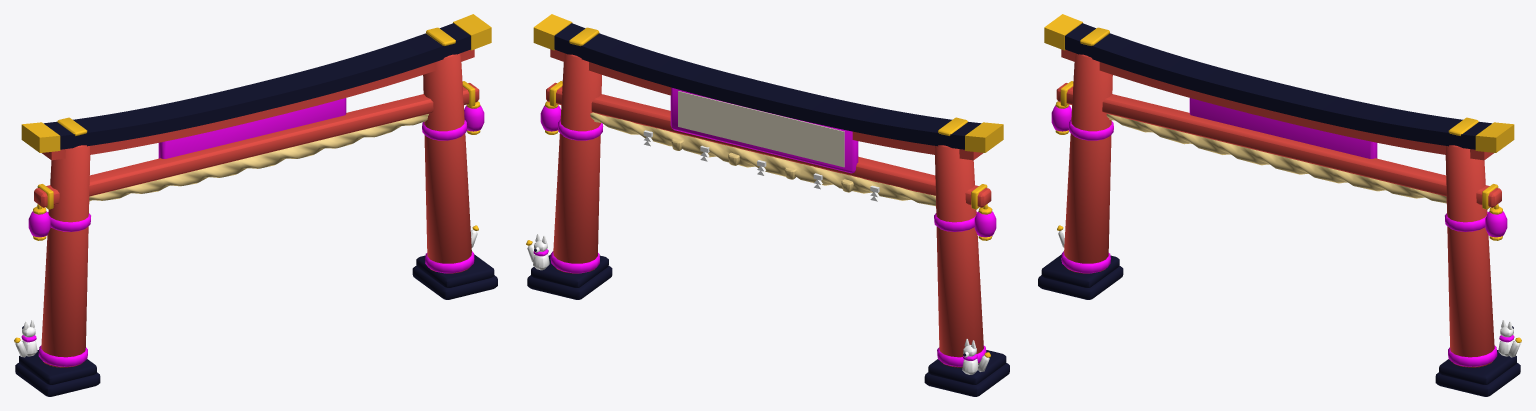
File: Lane_ZoneGate.glb
3 renders of one model, left to right at view 1: azimuth 30°, elevation 25°; view 2: azimuth 150°, elevation 25°; view 3: azimuth 330°, elevation 25°, orthographic.
Visible parts, largest first — view 1: Red_E0453C, Ink_0D0F2B, Accent_FF00FF, Rope_F4D58A, Gold_FFC21A, White_FFFFFF; view 2: Red_E0453C, Ink_0D0F2B, Face_FFF6E0, Rope_F4D58A, Accent_FF00FF, Gold_FFC21A, White_FFFFFF; view 3: Red_E0453C, Ink_0D0F2B, Accent_FF00FF, Rope_F4D58A, Gold_FFC21A, White_FFFFFF.
Part boxes in pixels (bbox=[...]): Red_E0453C: bbox=[34, 49, 479, 367]; Ink_0D0F2B: bbox=[15, 23, 497, 396]; Accent_FF00FF: bbox=[21, 98, 484, 366]; Rope_F4D58A: bbox=[89, 114, 428, 201]; Gold_FFC21A: bbox=[14, 14, 491, 342]; White_FFFFFF: bbox=[15, 229, 477, 357]; Red_E0453C: bbox=[546, 49, 991, 367]; Ink_0D0F2B: bbox=[527, 23, 1009, 396]; Face_FFF6E0: bbox=[678, 91, 844, 167]; Rope_F4D58A: bbox=[590, 112, 935, 206]; Accent_FF00FF: bbox=[533, 87, 996, 366]; Gold_FFC21A: bbox=[526, 14, 1003, 357]; White_FFFFFF: bbox=[527, 130, 989, 374]; Red_E0453C: bbox=[1056, 49, 1501, 367]; Ink_0D0F2B: bbox=[1038, 23, 1520, 396]; Accent_FF00FF: bbox=[1051, 98, 1514, 366]; Rope_F4D58A: bbox=[1106, 114, 1446, 203]; Gold_FFC21A: bbox=[1044, 14, 1521, 342]; White_FFFFFF: bbox=[1058, 229, 1520, 357].
Bounding box in the file's own units: 61.44 × 32.28 × 8.43.
